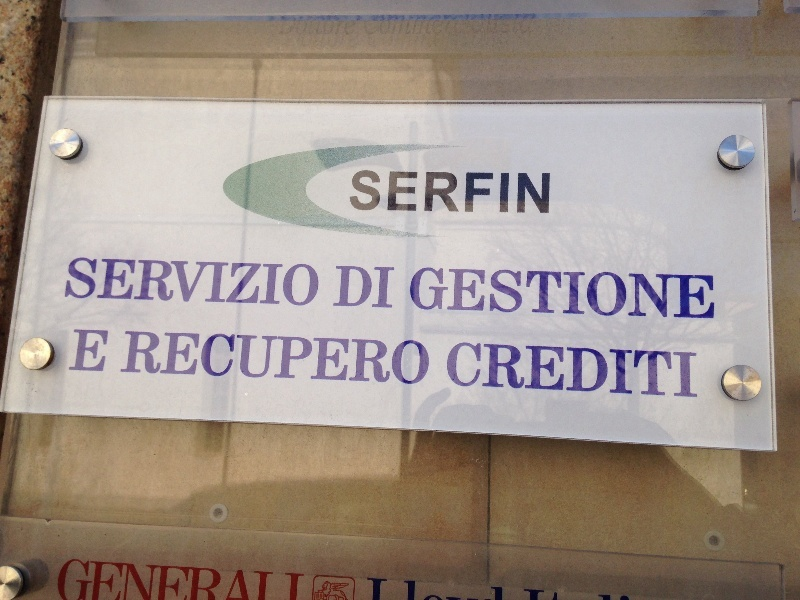text: (449, 341, 464, 400), (465, 341, 480, 400), (481, 341, 496, 400), (497, 341, 512, 400), (513, 341, 528, 400), (529, 341, 544, 400), (545, 341, 560, 400), (561, 341, 576, 400), (577, 341, 592, 400), (593, 341, 608, 400), (609, 341, 624, 400), (625, 341, 640, 400), (641, 341, 656, 400), (657, 341, 672, 400), (673, 341, 688, 400), (129, 330, 144, 387), (145, 330, 160, 387), (161, 330, 176, 387), (177, 330, 192, 387), (193, 330, 208, 387), (209, 330, 224, 387), (225, 330, 240, 387), (241, 330, 256, 387), (257, 330, 272, 387), (273, 330, 288, 387), (289, 330, 304, 387), (305, 330, 320, 387), (321, 330, 336, 387), (337, 330, 352, 387), (353, 330, 368, 387), (369, 330, 384, 387), (385, 330, 400, 387), (401, 330, 416, 387), (417, 266, 432, 320), (433, 266, 448, 320), (449, 266, 464, 320), (465, 266, 480, 320), (481, 266, 496, 320), (497, 266, 512, 320), (513, 266, 528, 320), (529, 266, 544, 320), (545, 266, 560, 320), (561, 266, 576, 320), (577, 266, 592, 320), (593, 266, 608, 320), (609, 266, 624, 320), (625, 266, 640, 320), (641, 266, 656, 320), (657, 266, 672, 320), (673, 266, 688, 320), (689, 266, 704, 320), (305, 257, 321, 307), (81, 257, 96, 307), (97, 257, 112, 307), (113, 257, 128, 307), (129, 257, 144, 307), (145, 257, 160, 307), (161, 257, 176, 307), (177, 257, 192, 307), (193, 257, 208, 307), (209, 257, 224, 307), (225, 257, 240, 307), (241, 257, 256, 307), (257, 257, 272, 307), (273, 257, 288, 307), (289, 257, 304, 307), (417, 330, 430, 387), (353, 170, 368, 216), (369, 170, 384, 216), (385, 170, 400, 216), (401, 170, 416, 216), (417, 170, 432, 216), (433, 170, 448, 216), (449, 170, 464, 216), (465, 170, 480, 216), (481, 170, 496, 216), (497, 170, 512, 216), (513, 170, 528, 216), (529, 170, 544, 216), (81, 328, 96, 373), (289, 558, 305, 600), (337, 265, 352, 309), (353, 265, 368, 309), (369, 265, 384, 309), (65, 558, 80, 600), (81, 558, 96, 600), (97, 558, 112, 600), (113, 558, 128, 600), (129, 558, 144, 600), (145, 558, 160, 600), (161, 558, 176, 600), (177, 558, 192, 600), (193, 558, 208, 600), (209, 558, 224, 600), (225, 558, 240, 600), (241, 558, 256, 600), (257, 558, 272, 600), (273, 558, 288, 600), (689, 341, 699, 400), (69, 257, 80, 307), (705, 266, 715, 320), (97, 328, 109, 373), (385, 265, 396, 309), (369, 576, 384, 600), (385, 576, 400, 600), (401, 576, 416, 600), (417, 576, 432, 600), (433, 576, 448, 600), (449, 576, 464, 600), (465, 576, 480, 600), (481, 576, 496, 600), (497, 576, 512, 600), (513, 576, 528, 600), (529, 576, 544, 600), (545, 576, 560, 600), (561, 576, 576, 600), (577, 576, 592, 600), (593, 576, 608, 600), (609, 576, 624, 600), (289, 14, 304, 37), (305, 14, 320, 37), (321, 14, 336, 37), (337, 14, 352, 37), (353, 14, 368, 37), (369, 14, 384, 37), (385, 14, 400, 37), (401, 14, 416, 37), (417, 14, 432, 37), (433, 14, 448, 37), (449, 14, 464, 37), (465, 14, 480, 37), (481, 14, 496, 37), (497, 14, 512, 37), (513, 14, 528, 37), (545, 170, 551, 216), (411, 266, 416, 320), (74, 328, 80, 373), (529, 14, 537, 37), (125, 330, 128, 387), (60, 558, 64, 600), (625, 576, 631, 600), (283, 14, 288, 37), (447, 341, 448, 400), (367, 576, 368, 600)
